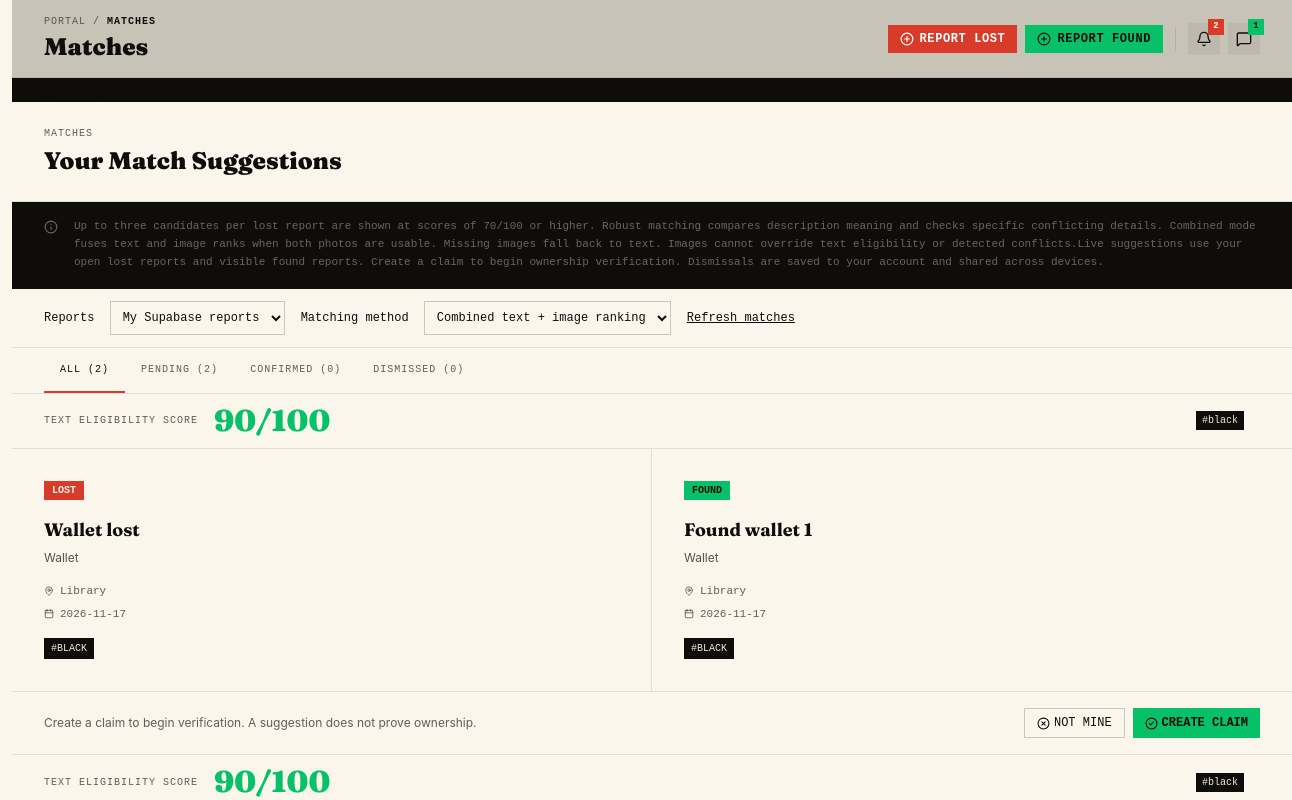
matching UI and shared state › creates a real claim only in live mode and updates counts after success
Expected: the button "pending (2)" is shown, [125,348,234,393]
Click the button "Create claim": (1196, 723) [1133,708,1260,738]
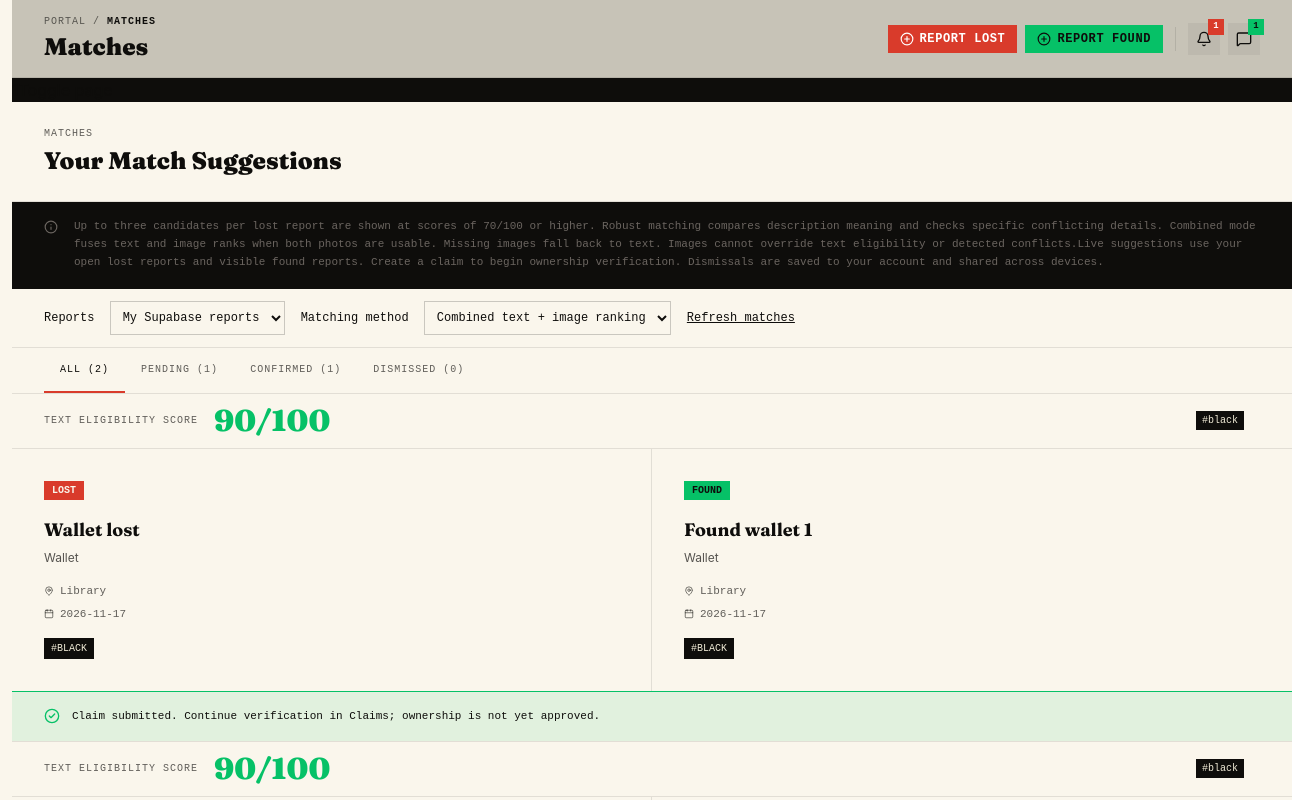
Result: the button "confirmed (1)" is shown at [234,348,357,393]
